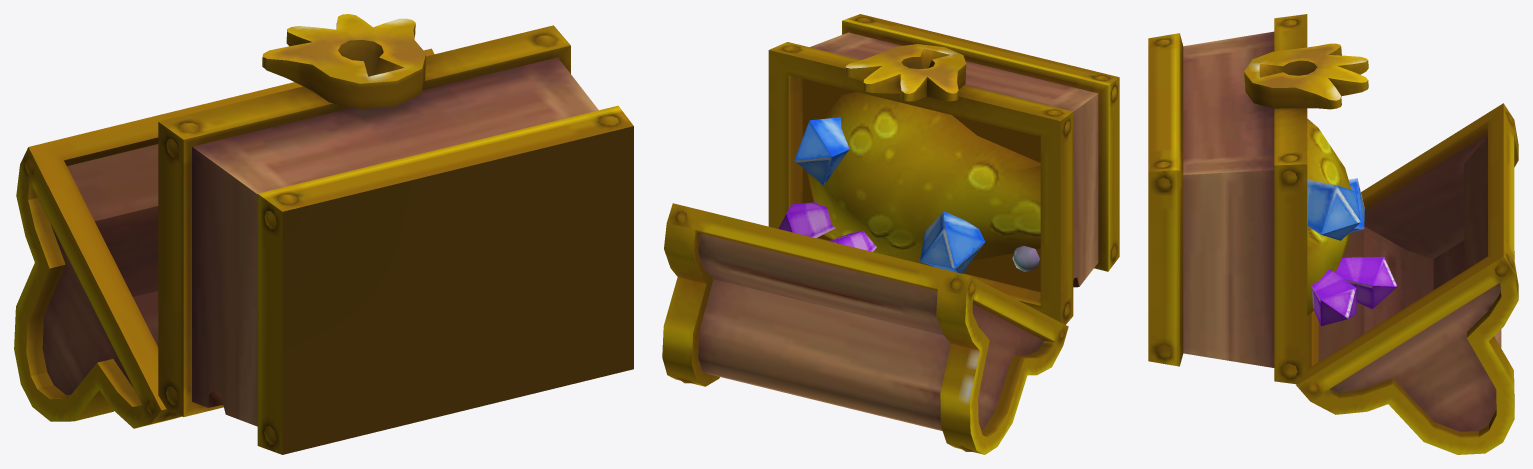
The model's file is TreasureChest.fbx.
The picture shows the model from 3 angles, left to right: view 1: azimuth 30°, elevation 25°; view 2: azimuth 150°, elevation 25°; view 3: azimuth 270°, elevation 25°; orthographic projection. The views are drawn at different scales.
Visible parts, largest first — view 1: OpenChest; view 2: OpenChest; view 3: OpenChest.
Part boxes in pixels (<box>): OpenChest: <box>14,14,633,454</box>; OpenChest: <box>662,14,1119,454</box>; OpenChest: <box>1148,14,1518,454</box>.
Size of the model in its own units: 103 by 93.72 by 102.
